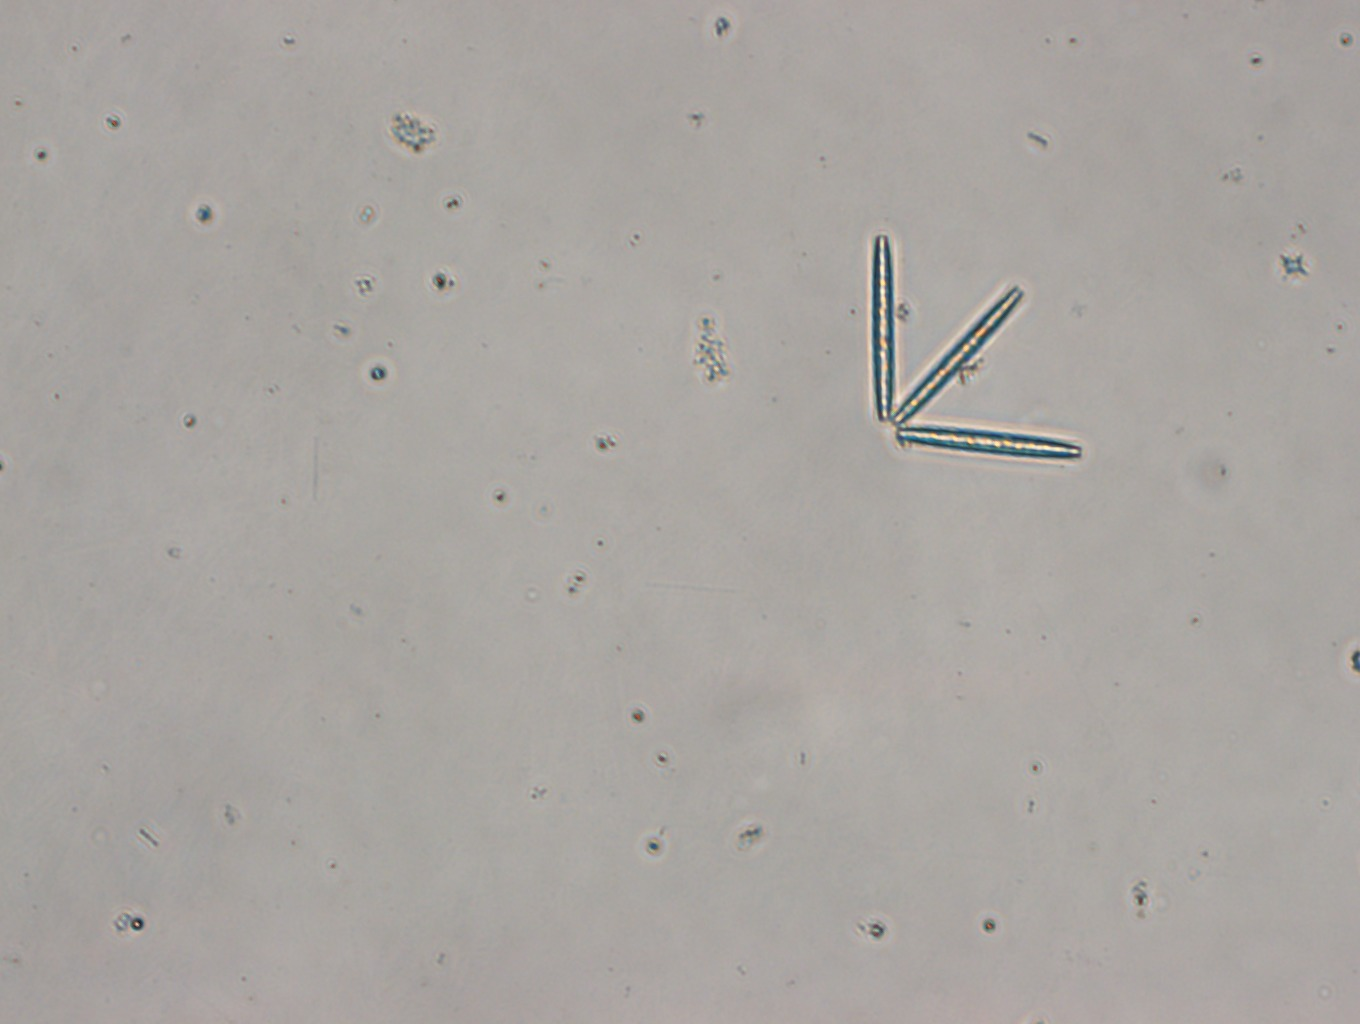thalassionema nitzschioides: (868, 234, 1082, 465)
